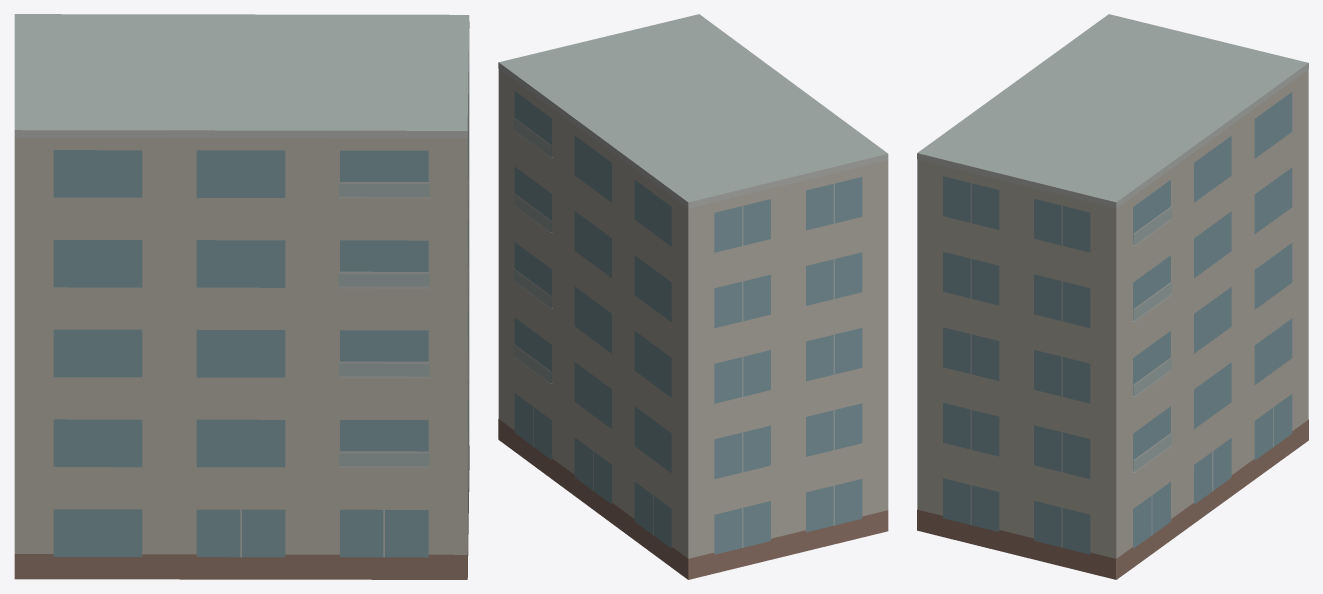
File: survey-upis-32879948.glb
3 views of the same model, side by side, from view 1: azimuth 30°, elevation 25°; view 2: azimuth 150°, elevation 25°; view 3: azimuth 270°, elevation 25° (orthographic). The views are drawn at different scales.
Parts seen in each view (by area): view 1: survey-upis-32879948.tmp; view 2: survey-upis-32879948.tmp; view 3: survey-upis-32879948.tmp.
Boxes of the visible parts, <box> form: survey-upis-32879948.tmp: <box>14,14,469,579</box>; survey-upis-32879948.tmp: <box>498,14,888,579</box>; survey-upis-32879948.tmp: <box>917,14,1308,579</box>.
Size of the model in its own units: 15.64 by 14.6 by 13.74.
